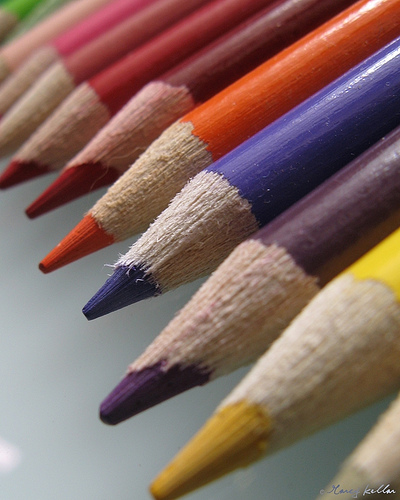pen_tip: (77, 165, 275, 335)
